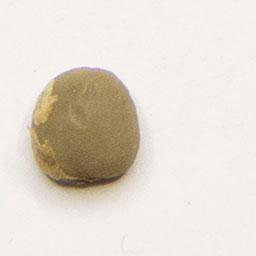premium: (27, 62, 143, 189)
